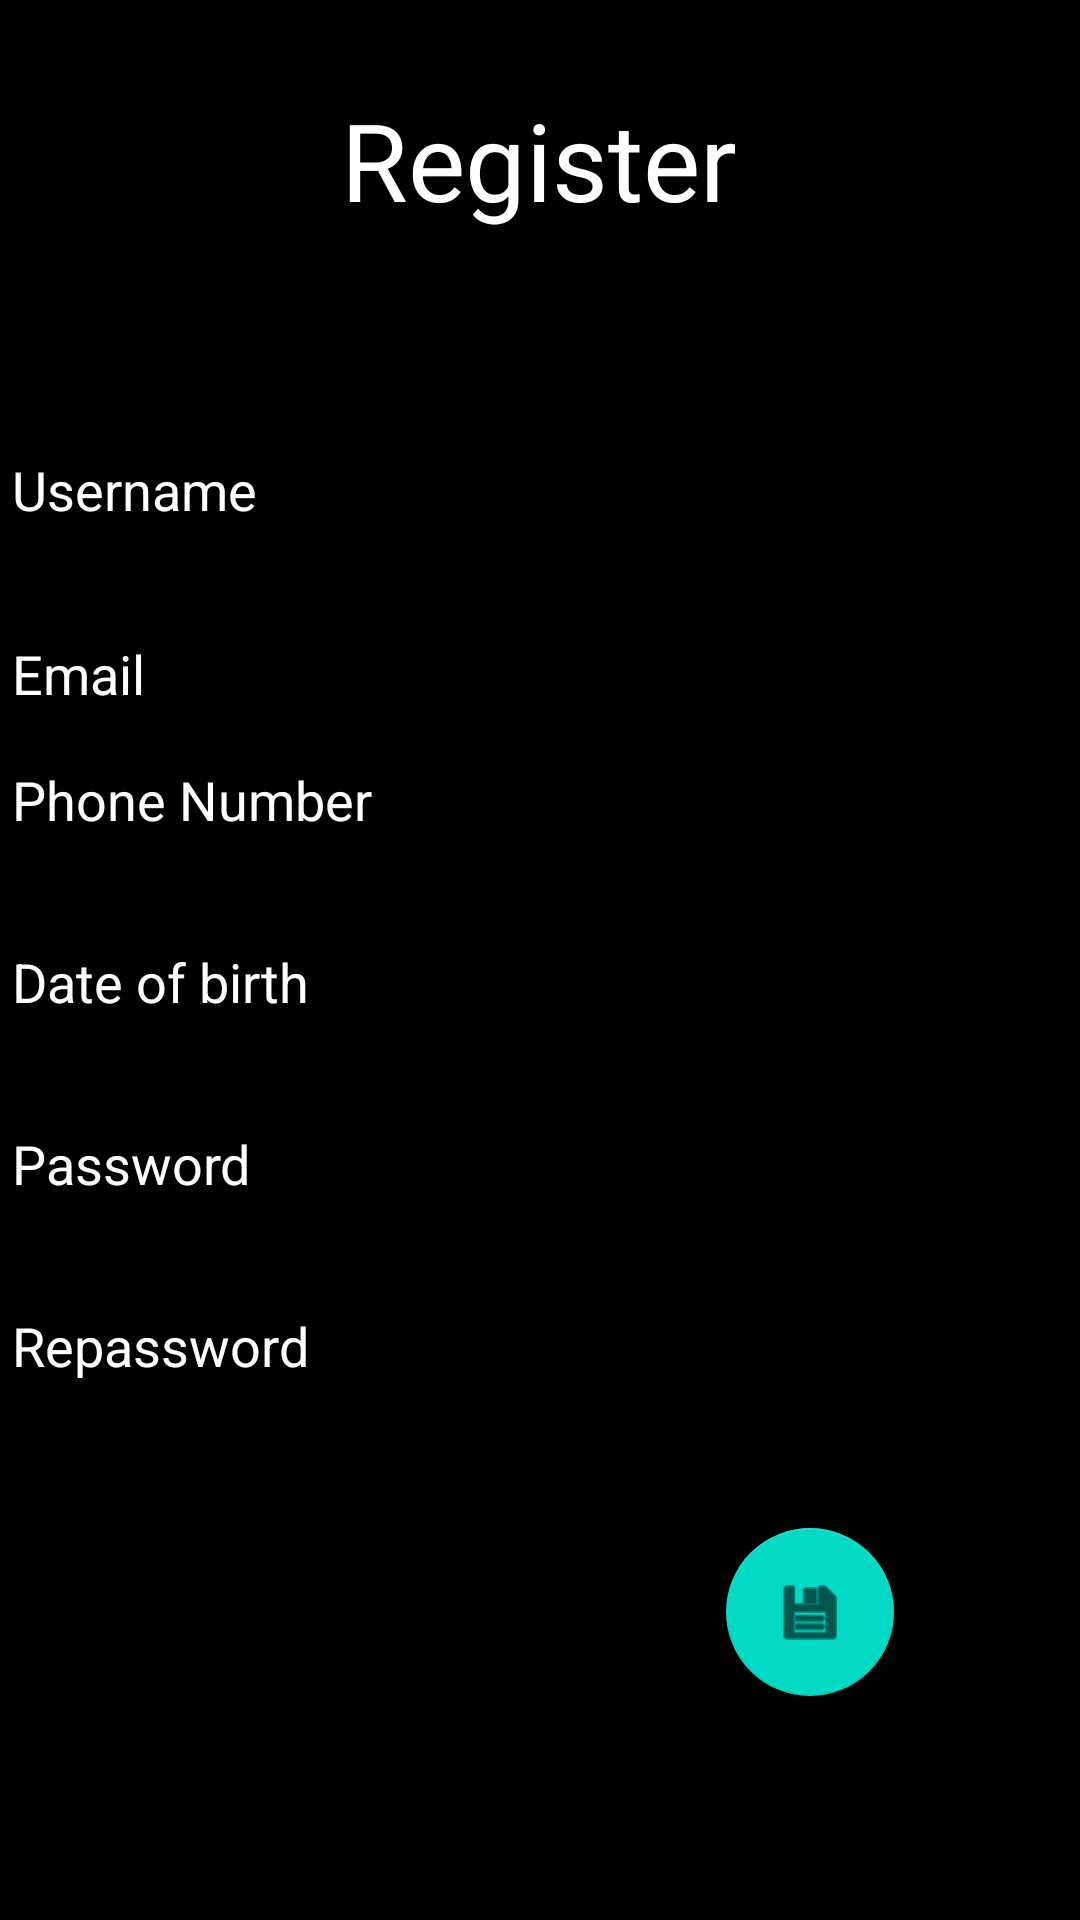

Named icons in this screenshot (1080 × 1920) and their bounding boxes, (x1, y1, x2, y2):
save: (726, 1528, 894, 1696)
